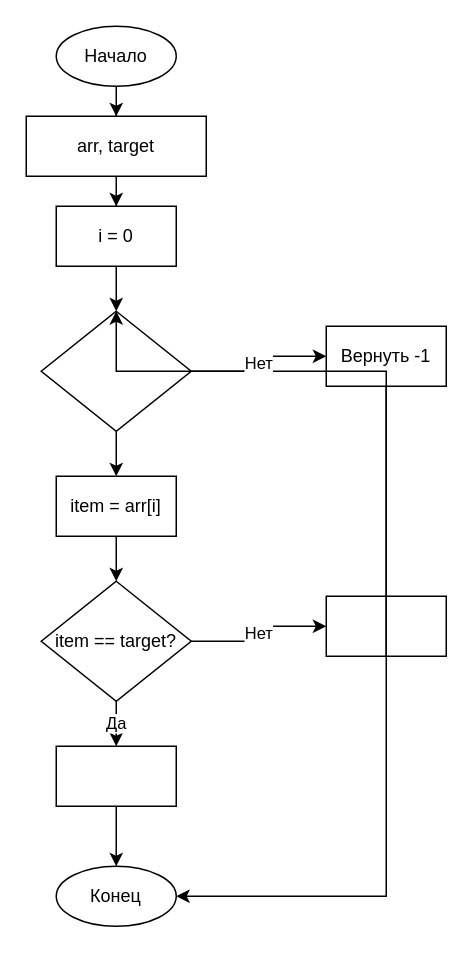
This 473x953 diagram has some shape labels left out. The box of each missing label's shape, as (x1, y1, x2, y2) in pixels:
i < len(arr)?: (40, 310, 191, 431)
i = i + 1: (325, 595, 446, 656)
Вернуть i: (55, 745, 176, 806)
